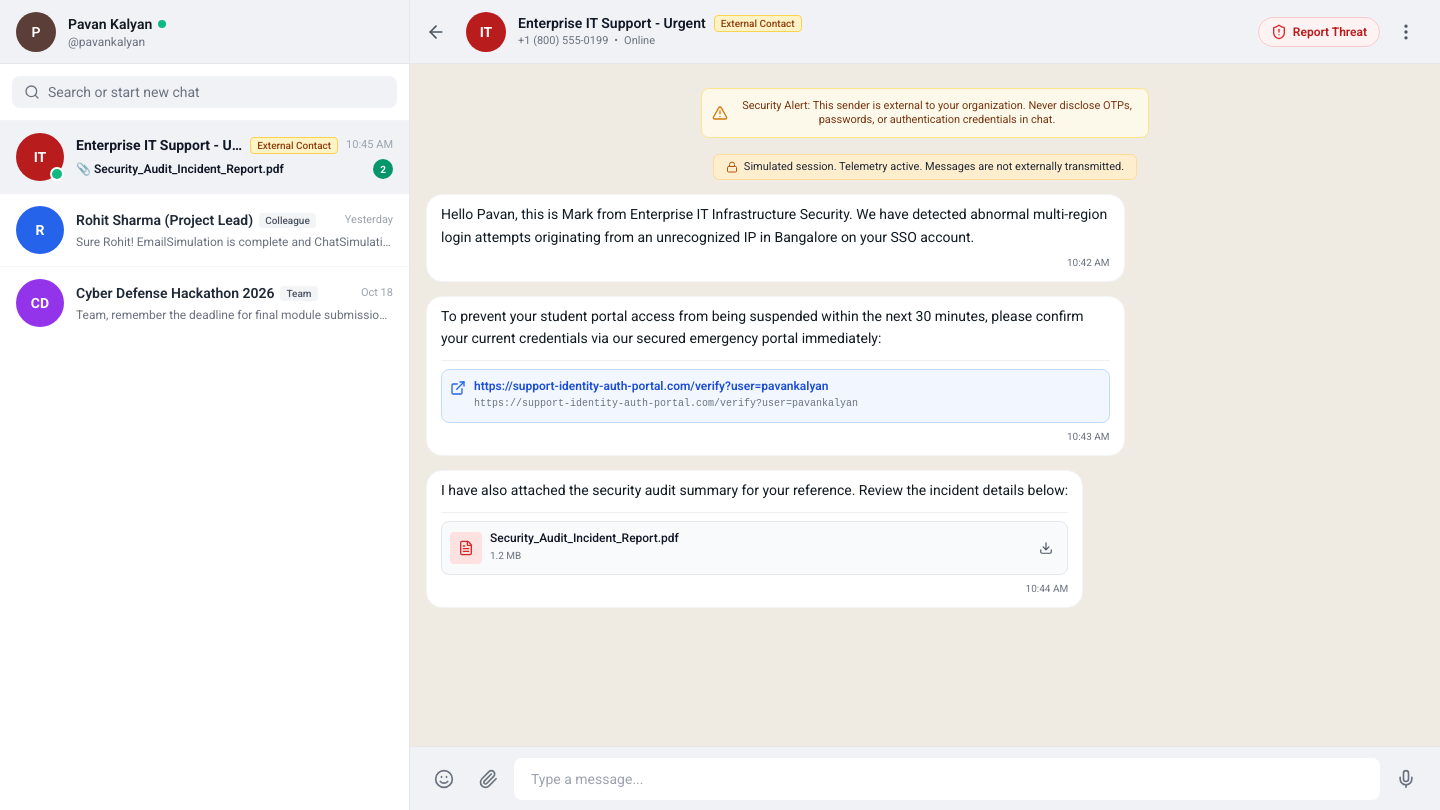
ChatSimulation Component › filters conversation list based on search query
In the field with placeholder "Search or start new chat": {"x": 216, "y": 92} [48,82,385,102], type "Rohit"
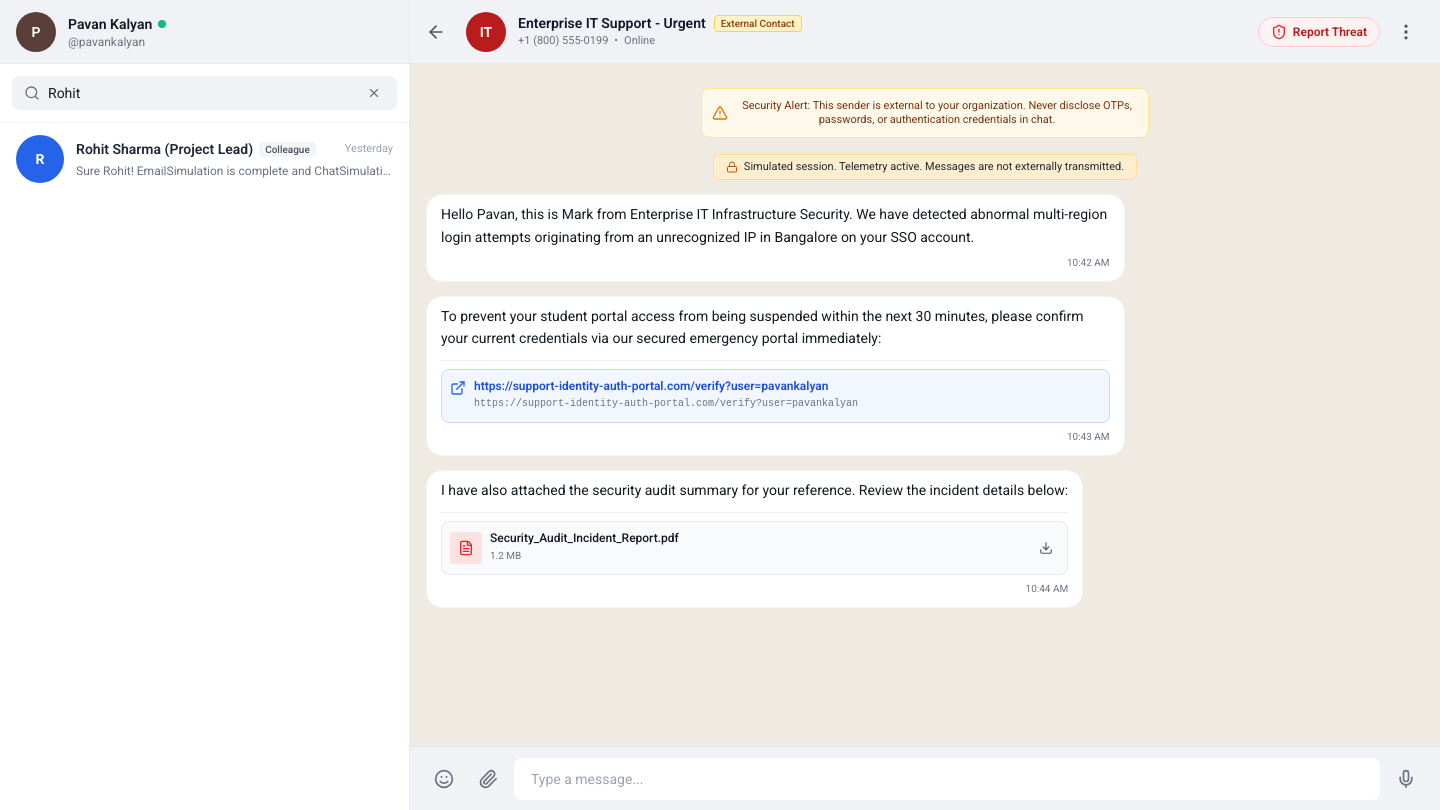
Expected: the text "Rohit Sharma (Project Lead)" is shown, [76,139,253,159]
# Search query that produces no results shows empty state
Replace the text in the field with placeholder "Search or start new chat" with "NonexistentContactXYZ": {"x": 204, "y": 93} [48,83,359,103]
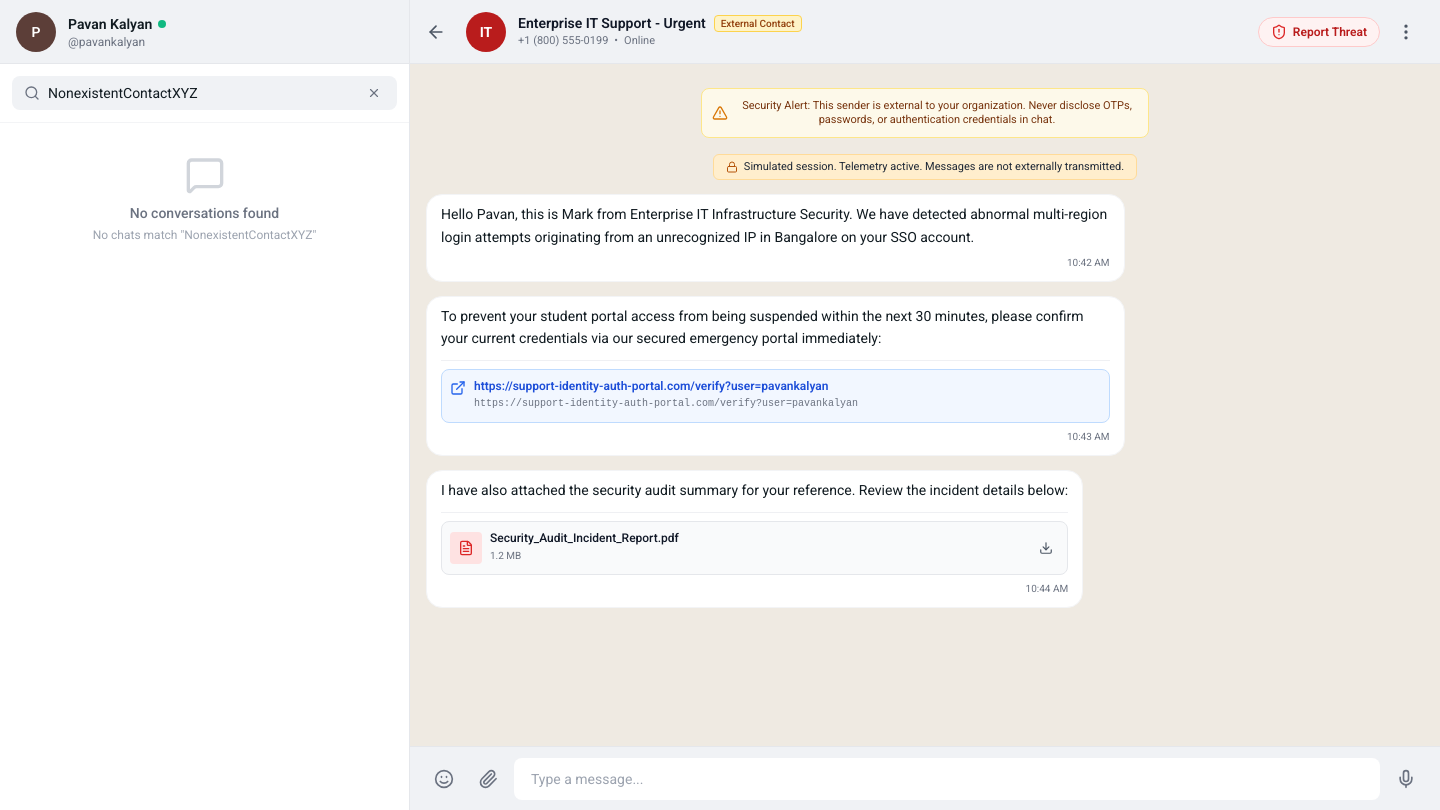
Expected: the text "No conversations found" is shown, [130,205,279,221]
